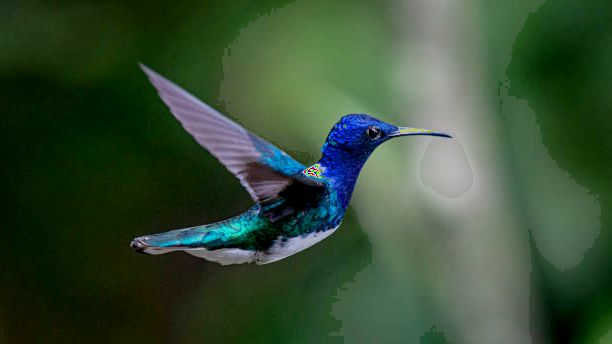Bird: (122, 59, 456, 265)
